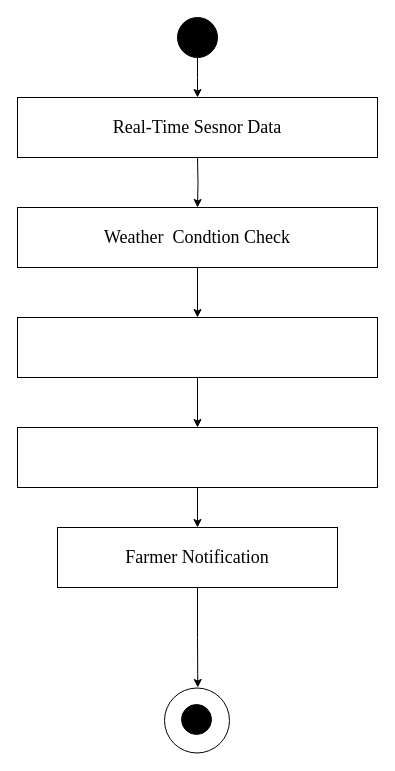
Some shapes in this 395 by 771 pixel diagram are drawn without their labels. Each missing label, with the centre of its shape:
"Alert Generation(SMS/Push Notification)" belongs at point (197, 457).
"Immediate Risk Detected?" belongs at point (197, 347).
